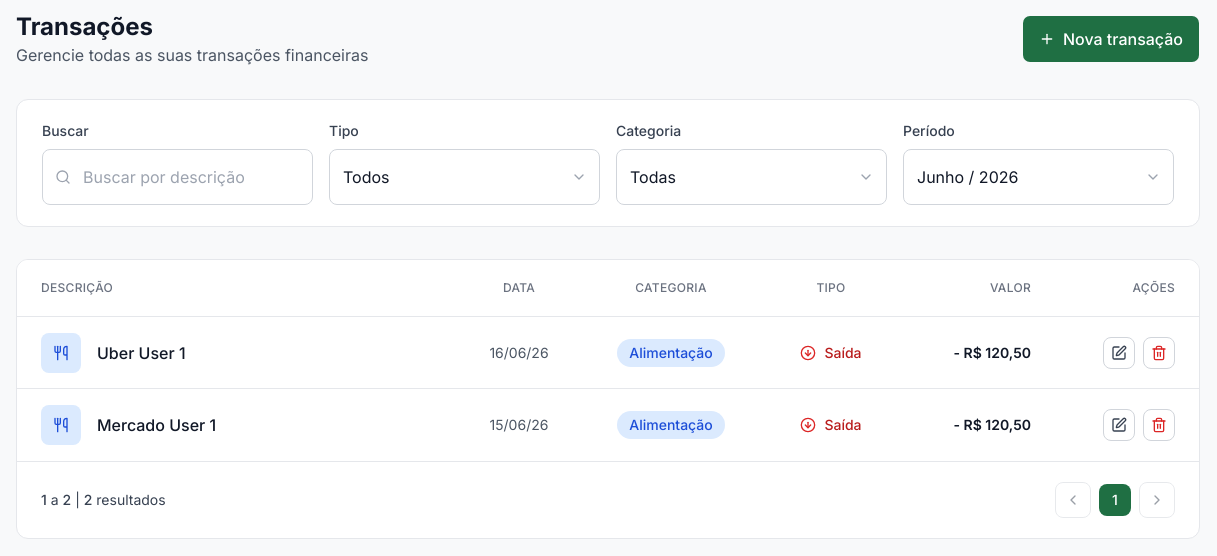
it: Transactions page › filtra transacoes pela busca
Expected: the text "Mercado User 1" is shown, [97,413,216,437]
In the field labelled "Buscar": (178, 177) [42,149,313,205], type "Uber"
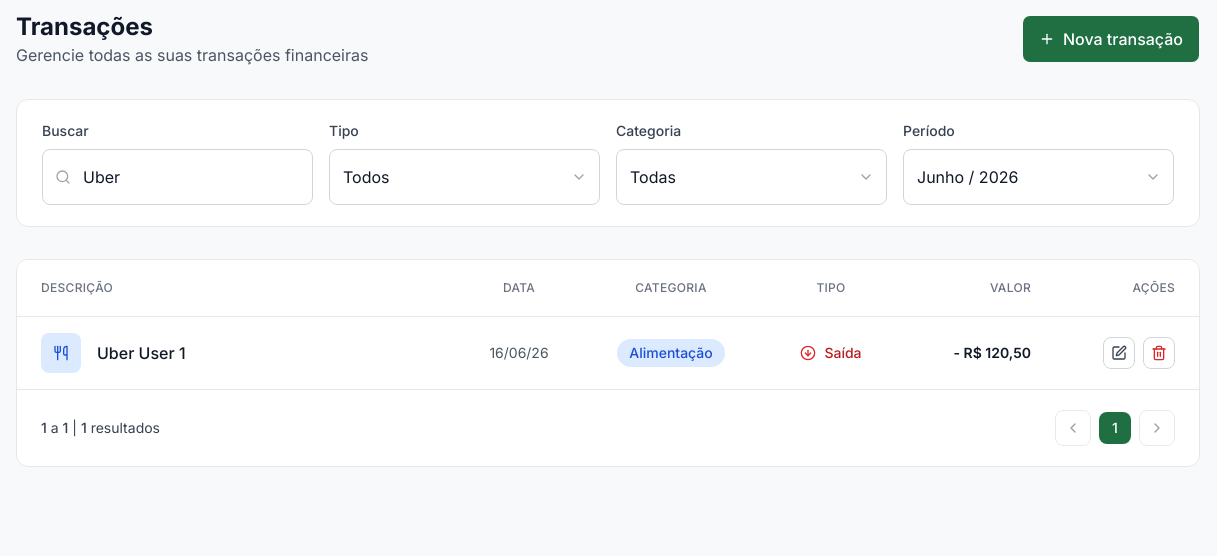
Expected: the text "Uber User 1" is shown, [97,341,186,365]
Expected: the text "Mercado User 1" is gone
